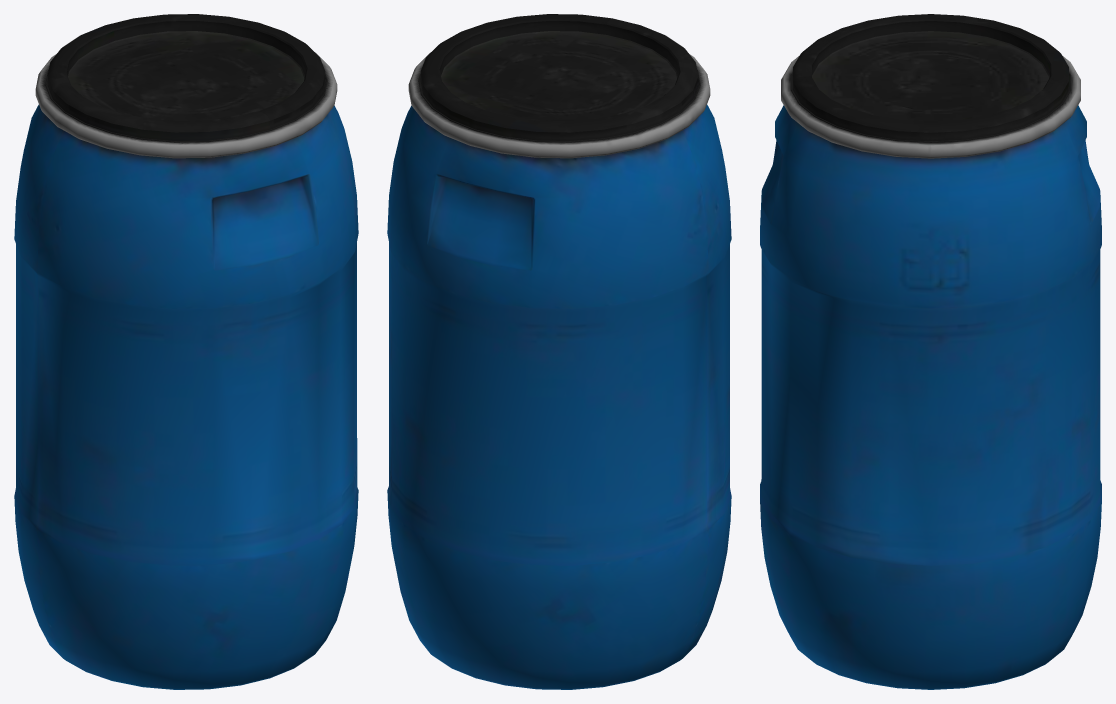
File: Barrel_02.glb
3 views of the same model, side by side, from view 1: azimuth 30°, elevation 25°; view 2: azimuth 150°, elevation 25°; view 3: azimuth 270°, elevation 25° (orthographic).
Parts seen in each view (by area): view 1: Barrel_02; view 2: Barrel_02; view 3: Barrel_02.
Part boxes in pixels (x1,y1,x2,y2): Barrel_02: (14,14,358,689); Barrel_02: (387,14,731,689); Barrel_02: (760,14,1101,689).
Size of the model in its own units: 0.4882 by 0.88 by 0.4846.
Materials: 1 (1 with a texture image).
